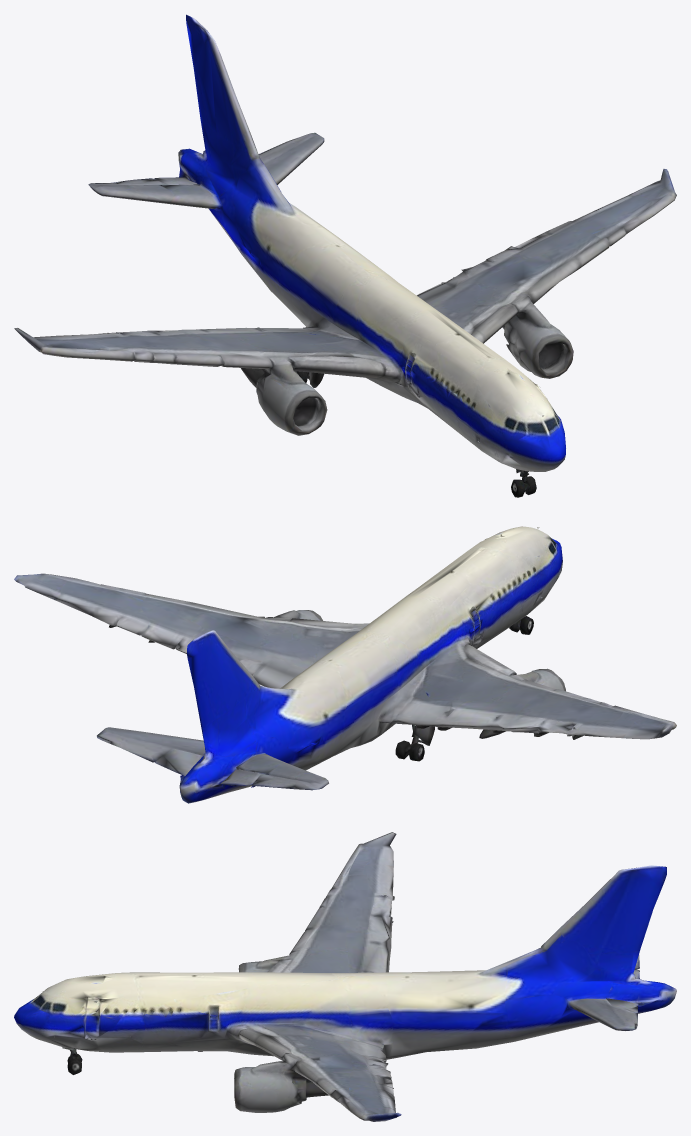
Rendered from plane_cargo.glb.
3 renders of one model, top to bottom at view 1: azimuth 30°, elevation 25°; view 2: azimuth 150°, elevation 25°; view 3: azimuth 270°, elevation 25°, orthographic. The views are drawn at different scales.
Visible parts, largest first — view 1: tripo_node_f51b8304-ed0a-477a-b28a-16101fa6470a; view 2: tripo_node_f51b8304-ed0a-477a-b28a-16101fa6470a; view 3: tripo_node_f51b8304-ed0a-477a-b28a-16101fa6470a.
Part boxes in pixels (box(x1,y1,x2,y2)): tripo_node_f51b8304-ed0a-477a-b28a-16101fa6470a: box(14, 14, 676, 497); tripo_node_f51b8304-ed0a-477a-b28a-16101fa6470a: box(14, 526, 676, 803); tripo_node_f51b8304-ed0a-477a-b28a-16101fa6470a: box(14, 832, 676, 1121).
Bounding box in the file's own units: 0.9992 × 0.3446 × 1.
Materials: 1 (1 with a texture image).
